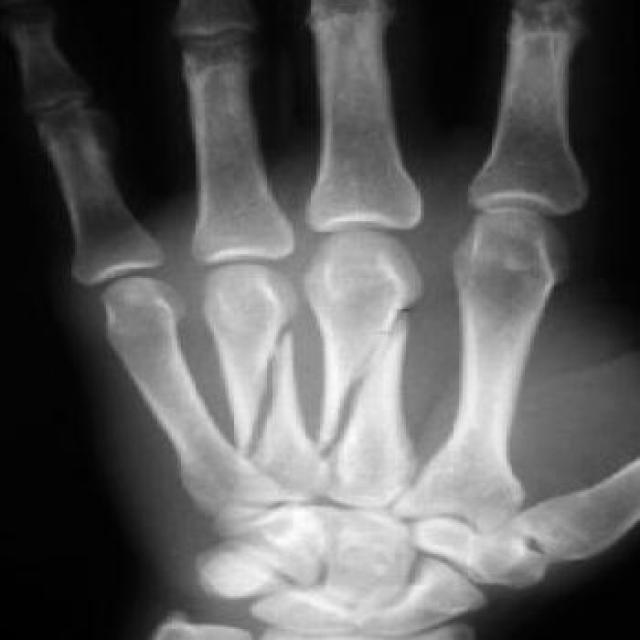fracture: (318, 301, 434, 451), (222, 313, 310, 470)
